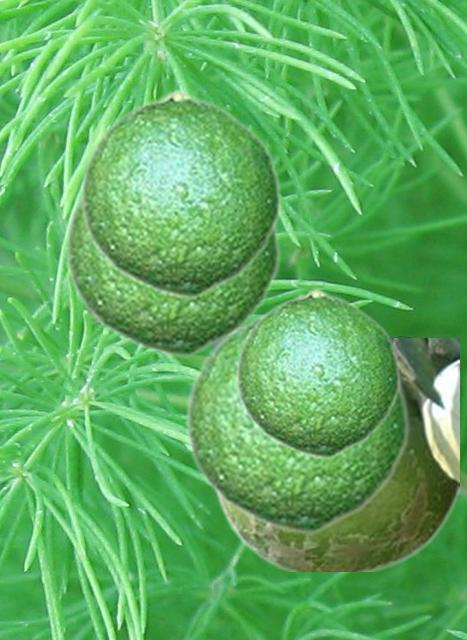dalandan: (213, 338, 458, 570), (183, 300, 409, 534), (78, 88, 281, 298), (63, 190, 280, 357), (234, 287, 400, 458)
